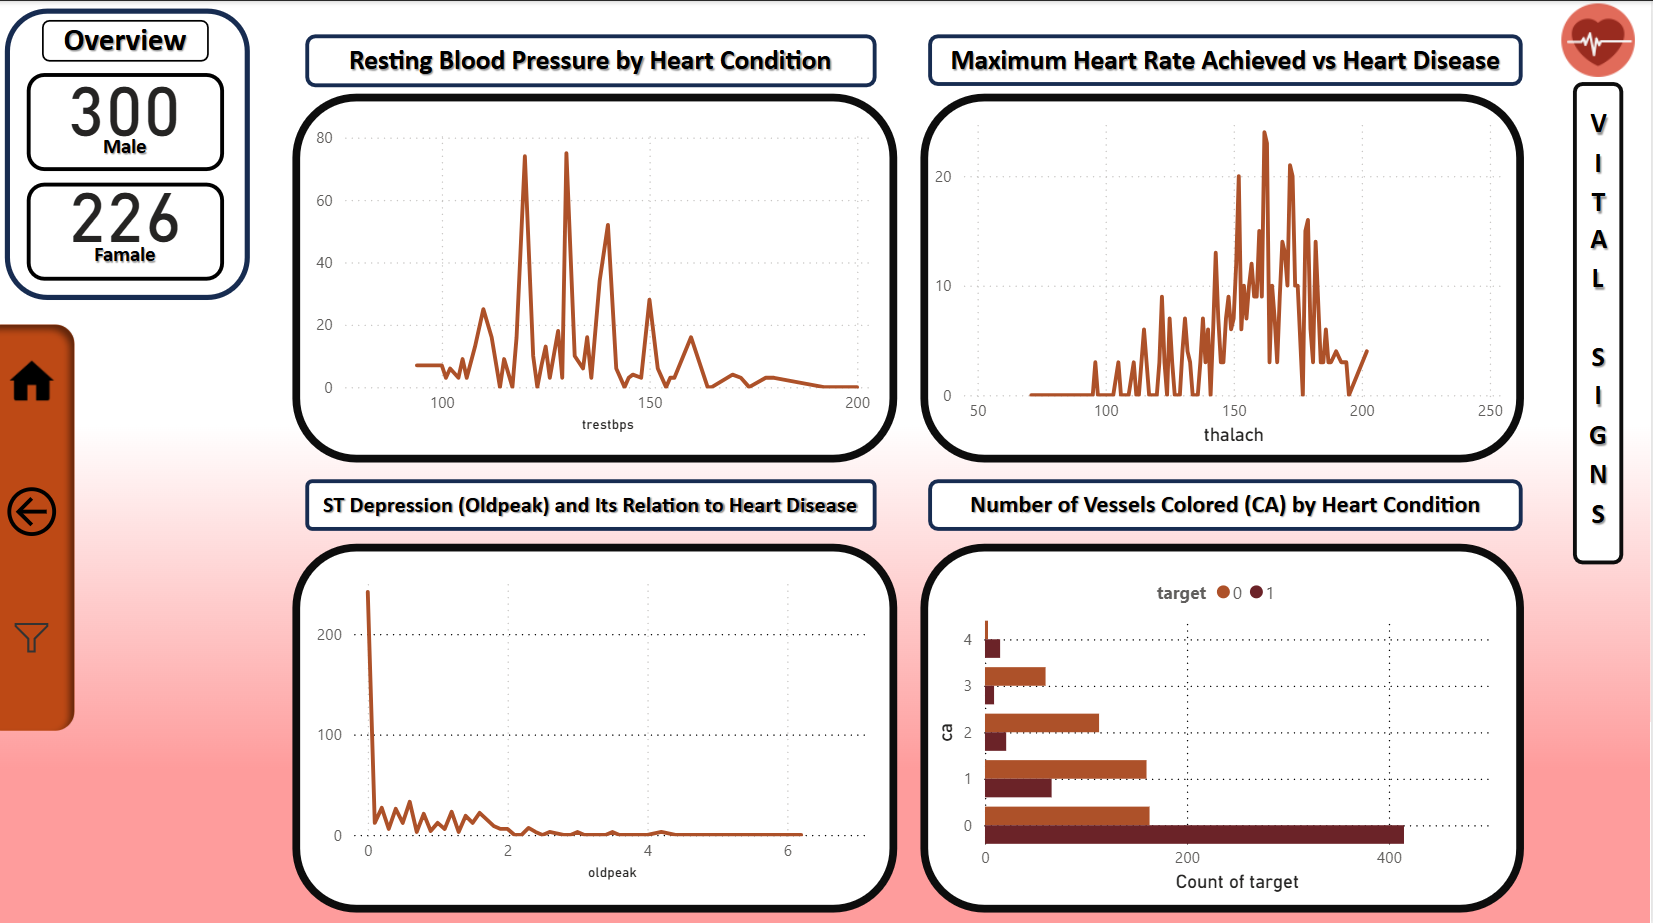

What the dashboard file says about the page in this screenshot:
{"tool":"powerbi","page":{"name":"Page 4","canvas":[1280,720],"ordinal":1},"visuals":[{"type":"actionButton","box":[0,349.4,49.2,93.7],"z":0},{"type":"card","fields":{"Values":["Sum(heart.target)"]},"box":[34.8,129.7,124.9,62.4],"z":1000},{"type":"card","fields":{"Values":["Sum(heart.target)"]},"box":[12.8,24.2,168.2,109.8],"z":2000},{"type":"lineChart","fields":{"Category":["heart.trestbps"],"Y":["Sum(heart.target)"]},"box":[240.2,92.5,439.5,247.4],"z":3000},{"type":"lineChart","fields":{"Category":["heart.thalach"],"Y":["Sum(heart.target)"]},"box":[720.5,79.2,450.3,270.2],"z":4000},{"type":"lineChart","fields":{"Y":["Sum(heart.target)"],"Category":["heart.oldpeak"]},"box":[240.2,438.3,439.5,248.6],"z":5000},{"type":"clusteredBarChart","fields":{"Category":["heart.ca"],"Series":["heart.target"],"Y":["CountNonNull(heart.target)"]},"box":[720.5,438.3,450.3,258.2],"z":6000},{"type":"actionButton","box":[0,261.8,49.3,64.7],"z":7000},{"type":"slicer","fields":{"Values":["heart.sex"]},"box":[0,443.1,49.2,102.1],"z":8000}]}

Visuals, with their boxes in screenshot pixels (x1, y1, x2, y2), scaled from the page's 1280x720 canvas onto the 1653x923 screenshot:
actionButton: <region>0, 448, 64, 568</region>
card - Sum(heart.target): <region>45, 166, 206, 246</region>
card - Sum(heart.target): <region>17, 31, 234, 172</region>
lineChart - heart.trestbps x Sum(heart.target): <region>310, 119, 878, 436</region>
lineChart - heart.thalach x Sum(heart.target): <region>930, 102, 1512, 448</region>
lineChart - Sum(heart.target) x heart.oldpeak: <region>310, 562, 878, 881</region>
clusteredBarChart - heart.ca x heart.target: <region>930, 562, 1512, 893</region>
actionButton: <region>0, 336, 64, 419</region>
slicer - heart.sex: <region>0, 568, 64, 699</region>
